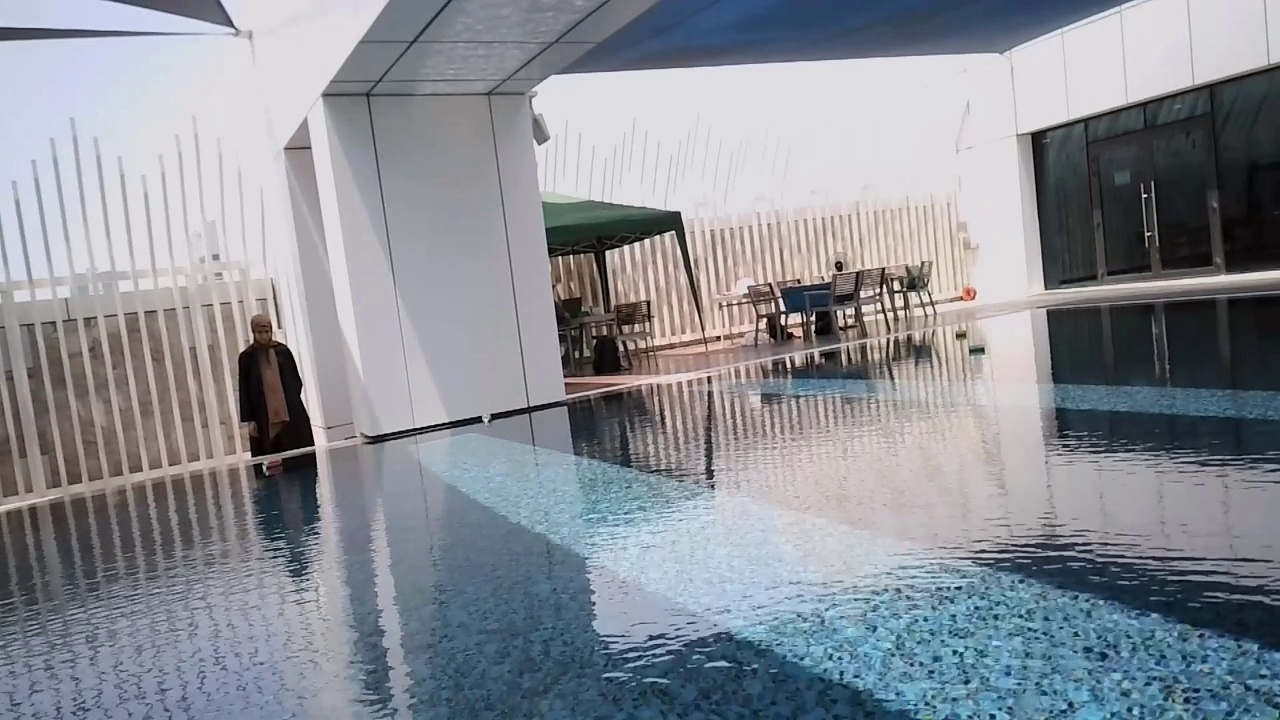debris: (259, 455, 285, 473), (965, 341, 988, 359), (475, 410, 494, 424), (952, 327, 969, 340)
